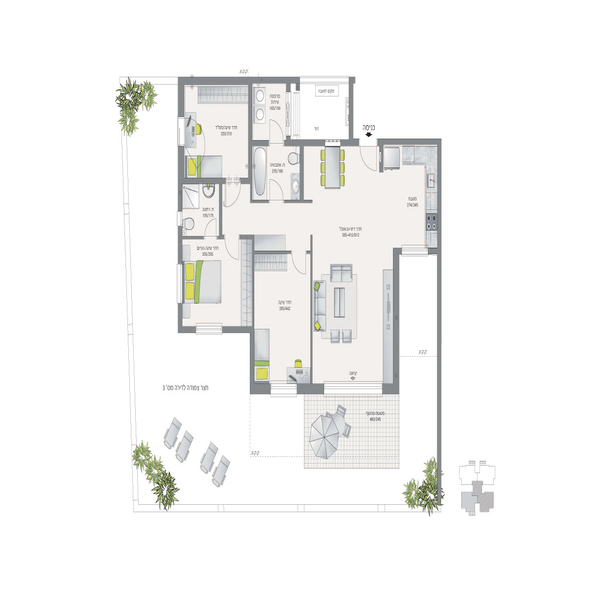door: (221, 180, 244, 213), (223, 236, 242, 265), (361, 146, 380, 173), (264, 119, 282, 146), (267, 178, 286, 201), (289, 251, 307, 275), (204, 216, 220, 240), (400, 244, 429, 257)
room: (297, 137, 442, 263), (310, 250, 400, 398), (252, 250, 317, 397), (177, 75, 254, 183), (178, 234, 256, 334), (249, 75, 354, 145)
wall: (437, 140, 442, 502), (179, 76, 299, 85), (393, 246, 399, 395), (247, 78, 254, 185), (378, 139, 441, 146), (250, 330, 257, 392), (177, 149, 184, 210), (296, 382, 323, 396), (299, 149, 304, 201), (177, 227, 184, 264), (286, 139, 322, 146), (250, 383, 270, 394), (227, 326, 246, 336)
window: (327, 379, 384, 397), (299, 75, 348, 84), (196, 324, 222, 338), (271, 383, 297, 395), (176, 267, 186, 297), (177, 117, 187, 146)
